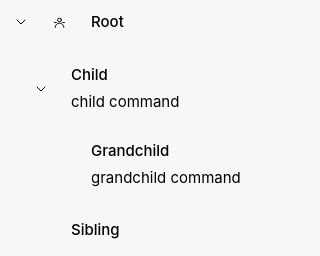
Scenario: TreeList › collapses and expands a branch with its chevron
Click the button named "Collapse child". click: (41, 89)
box: [27,75,55,103]
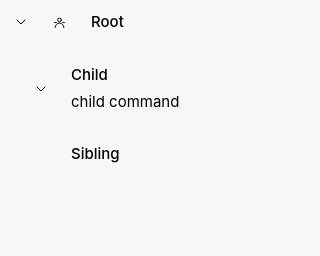
Click the button named "Collapse child". click: (41, 89)
box: [27,75,55,103]
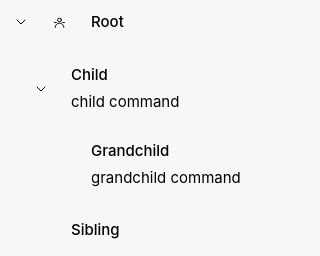
Expected: the element with test id "tree-item-grandchild" is shown, [91,141,241,187]
